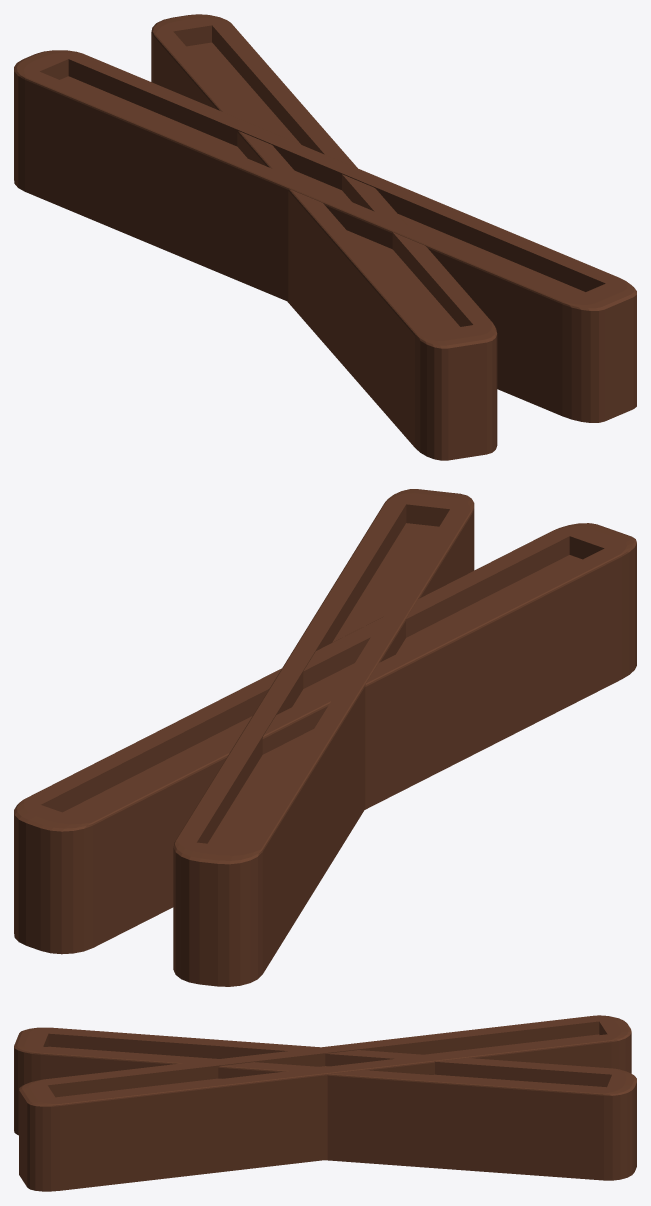
The model's file is wood_viewport.fbx.
3 renders of one model, top to bottom at view 1: azimuth 30°, elevation 25°; view 2: azimuth 150°, elevation 25°; view 3: azimuth 270°, elevation 25°, orthographic. The views are drawn at different scales.
Visible parts, largest first — view 1: wood_viewport_body; view 2: wood_viewport_body; view 3: wood_viewport_body.
Part boxes in pixels (x1,y1,x2,y2): wood_viewport_body: (14,14,636,460); wood_viewport_body: (14,489,636,986); wood_viewport_body: (14,1015,636,1191).
Size of the model in its own units: 0.4506 by 0.2015 by 1.31.
1 material, 1 textured.
